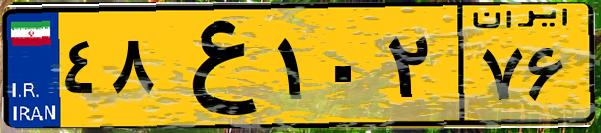0: (330, 28, 385, 110)
1: (270, 28, 330, 110)
2: (385, 28, 445, 110)
4: (57, 26, 110, 100)
6: (525, 38, 570, 115)
7: (475, 38, 525, 113)
8: (110, 28, 158, 98)
ع: (158, 12, 270, 120)
